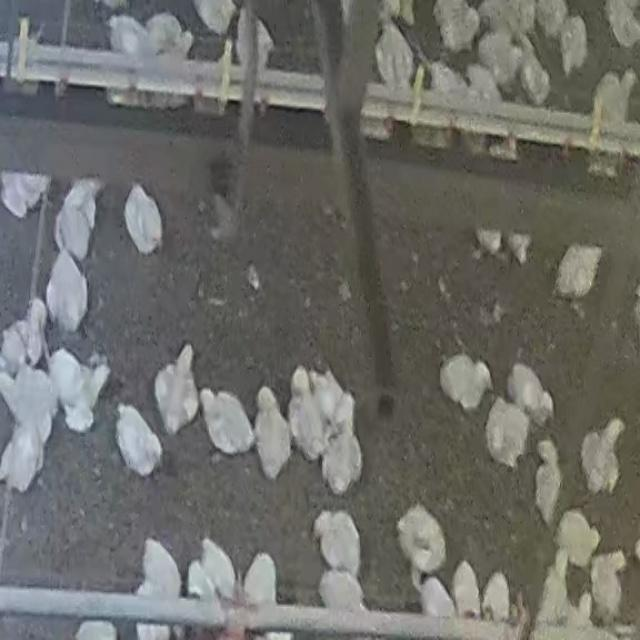chicken: (49, 347, 109, 431), (45, 249, 90, 337), (54, 180, 102, 262), (252, 387, 292, 482), (153, 345, 197, 431), (499, 357, 553, 425), (114, 403, 163, 477), (0, 301, 48, 373), (0, 419, 44, 495), (1, 369, 52, 434), (197, 388, 247, 453), (552, 241, 604, 303), (321, 422, 364, 495), (396, 510, 445, 573), (290, 370, 325, 458), (593, 62, 640, 126), (311, 513, 361, 571), (440, 357, 490, 414), (580, 423, 623, 487), (373, 16, 411, 88), (309, 365, 347, 437), (482, 401, 526, 462), (124, 182, 160, 256), (549, 514, 599, 566), (235, 13, 275, 78), (532, 442, 564, 523), (591, 549, 624, 625), (538, 555, 572, 626), (1, 170, 49, 219), (434, 0, 479, 52), (146, 541, 185, 598), (104, 13, 152, 59), (465, 65, 504, 121), (144, 12, 191, 58), (202, 539, 238, 597), (318, 573, 368, 613), (520, 41, 550, 104), (481, 0, 538, 33), (487, 33, 522, 85), (244, 554, 279, 604), (607, 0, 640, 50), (534, 0, 575, 40), (562, 18, 589, 78), (483, 571, 514, 623), (453, 560, 480, 617), (426, 57, 457, 105), (192, 1, 236, 34), (562, 594, 598, 634), (418, 580, 454, 617), (474, 226, 504, 258), (506, 232, 533, 265)
